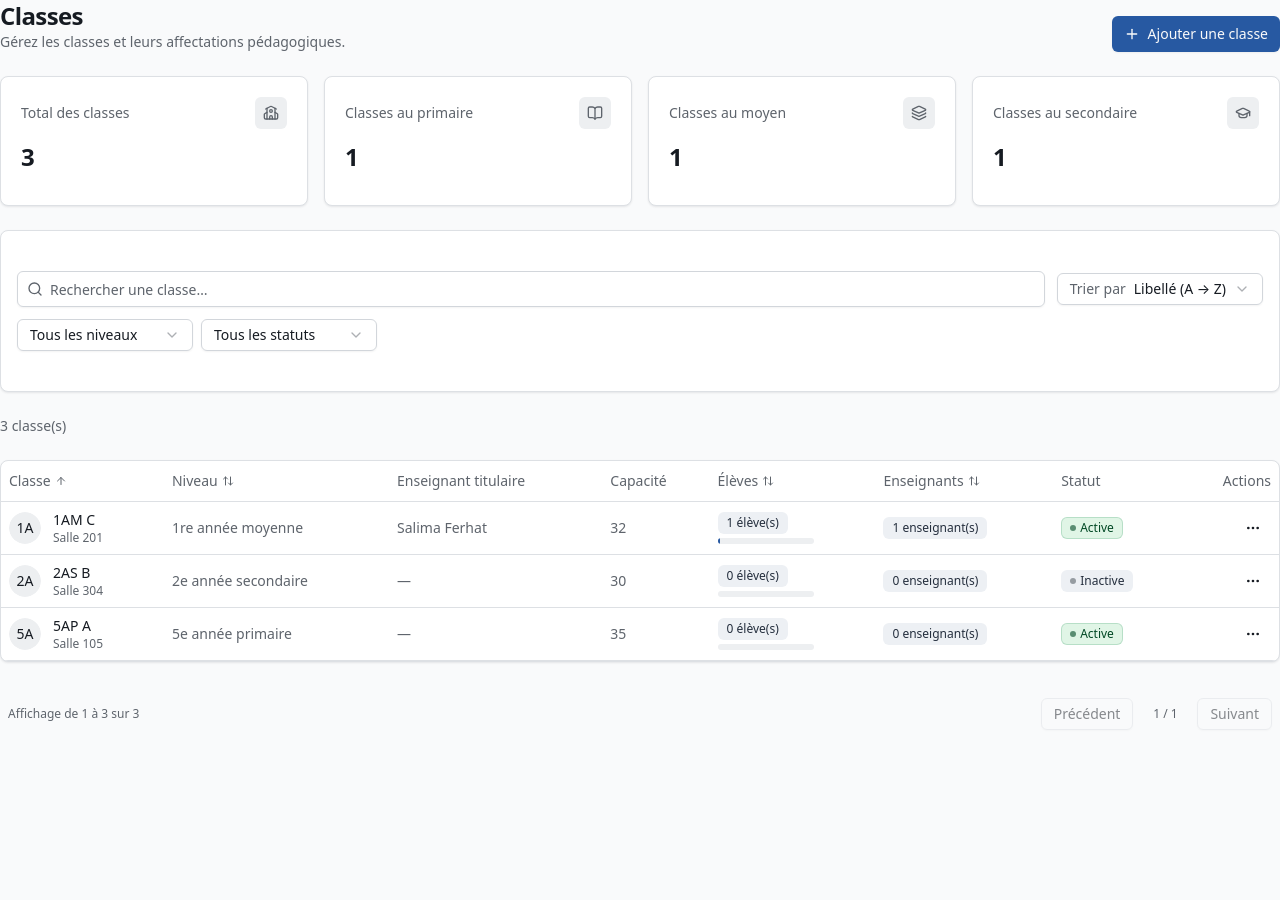
Test case: ClassesPage › deletes a class after confirmation and warns about linked students and teachers
This screenshot has width=1280, height=900.
Expected: the link "1AM C" is shown, left=53, top=510, right=95, bottom=528
Click the button named "Actions" in the row of "1AM C": (1253, 528) left=1235, top=510, right=1271, bottom=546
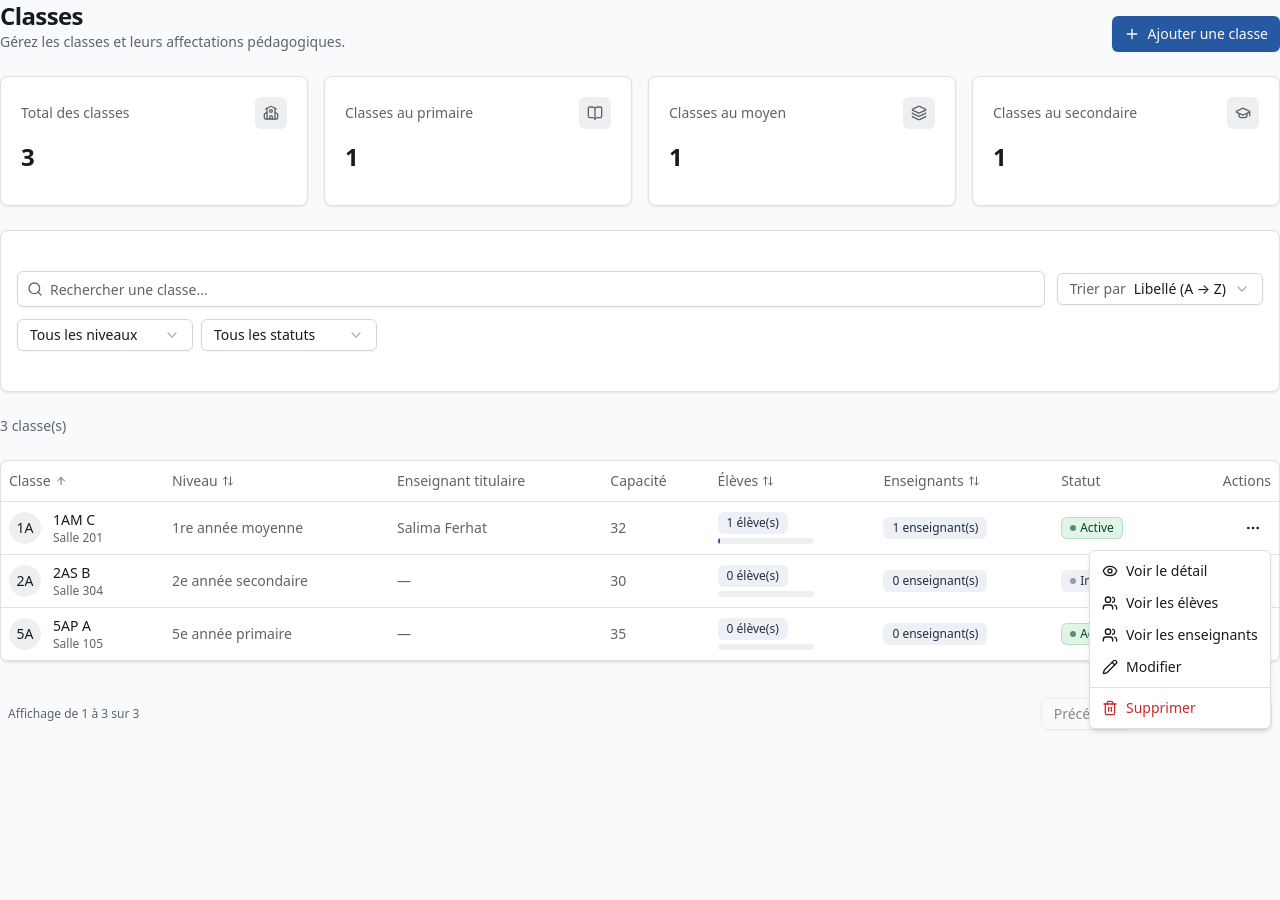
Click the menu item "Supprimer": (1149, 708) left=1102, top=698, right=1196, bottom=717
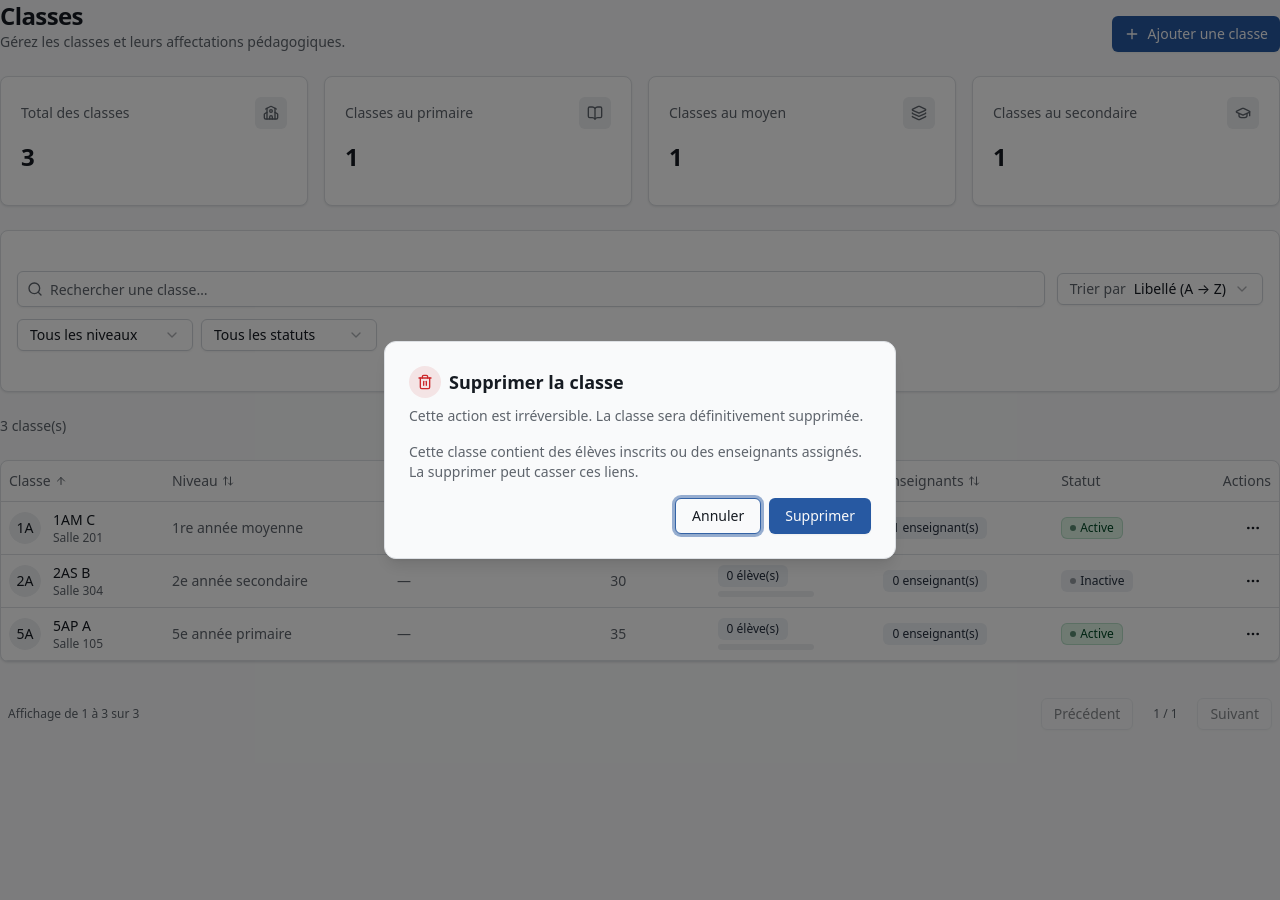
Result: the text "contient des élèves inscrits ou des enseignants" is shown at left=409, top=442, right=862, bottom=481
Click the button "Supprimer": (820, 516) left=769, top=498, right=871, bottom=534
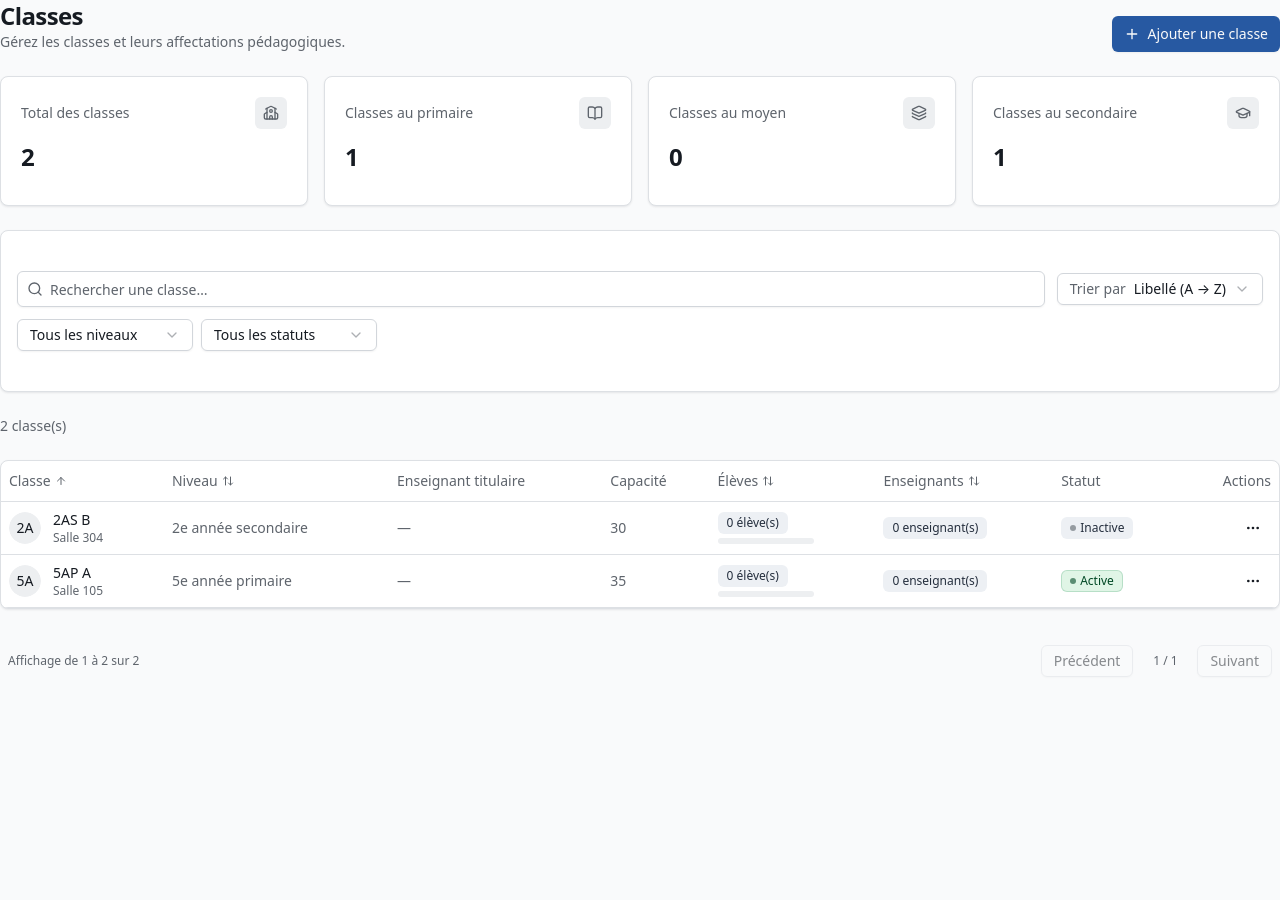
Result: the link "1AM C" is gone
